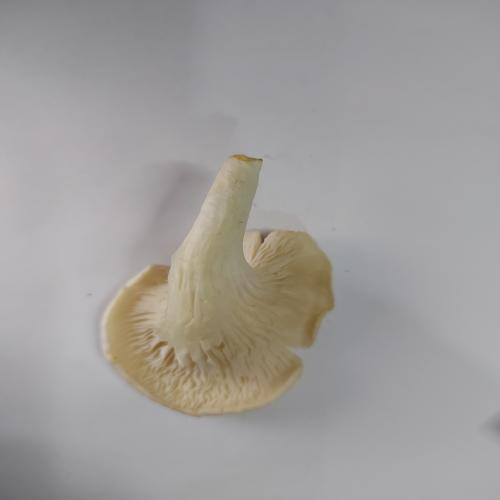Oyster Mushroom: (99, 152, 336, 417)
